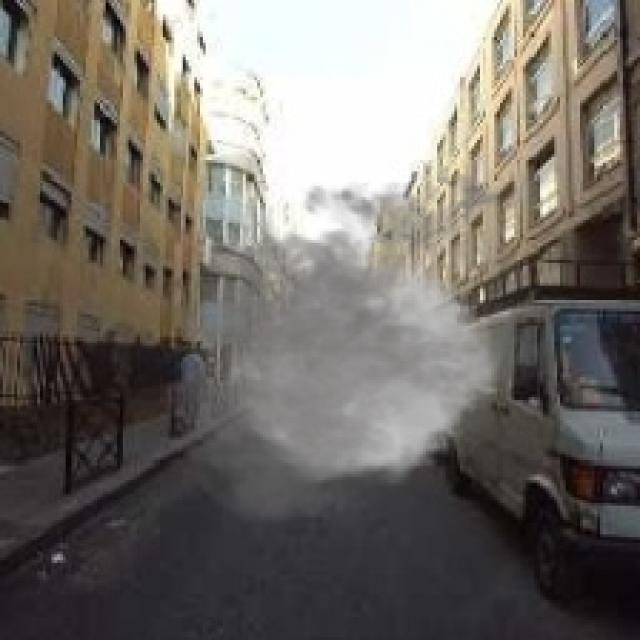smoke: (149, 160, 574, 537)
